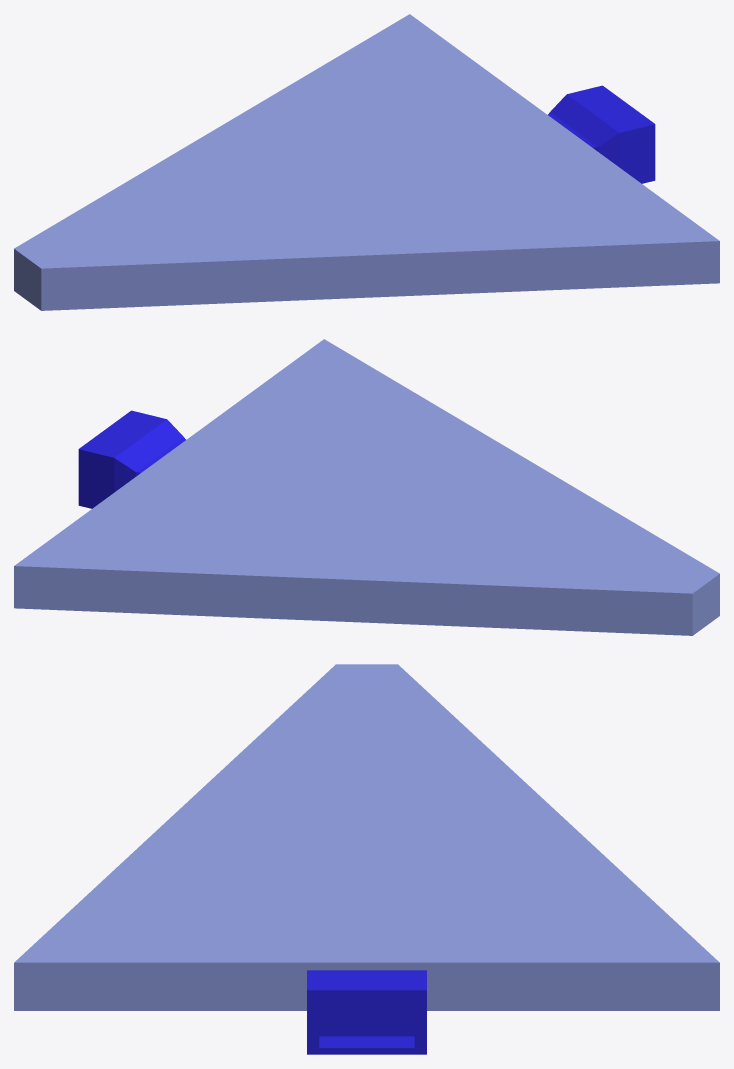
File: fastShip.fbx
The picture shows the model from 3 angles, top to bottom: view 1: azimuth 30°, elevation 25°; view 2: azimuth 150°, elevation 25°; view 3: azimuth 270°, elevation 25°; orthographic projection. The views are drawn at different scales.
Parts seen in each view (by area): view 1: Cube; view 2: Cube; view 3: Cube.
Part boxes in pixels (bbox=[...]): Cube: bbox=[14, 14, 719, 310]; Cube: bbox=[14, 339, 719, 635]; Cube: bbox=[14, 664, 719, 1054].
Size of the model in its own units: 224 by 20.08 by 200.
